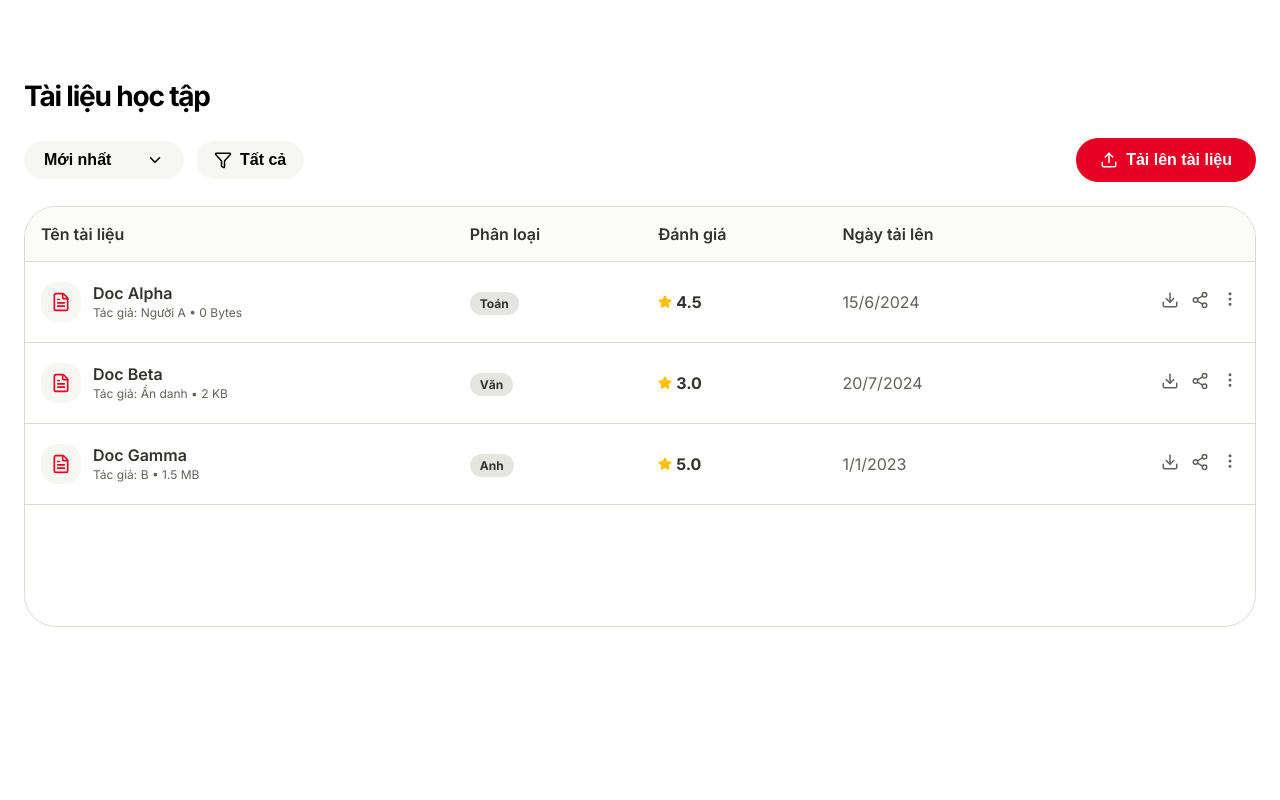
Scenario: StudyDocs › fetchCategories_prepends_all_before_api_categories
Click the button "Tất cả".
click(250, 160)  # box [196,141,304,179]
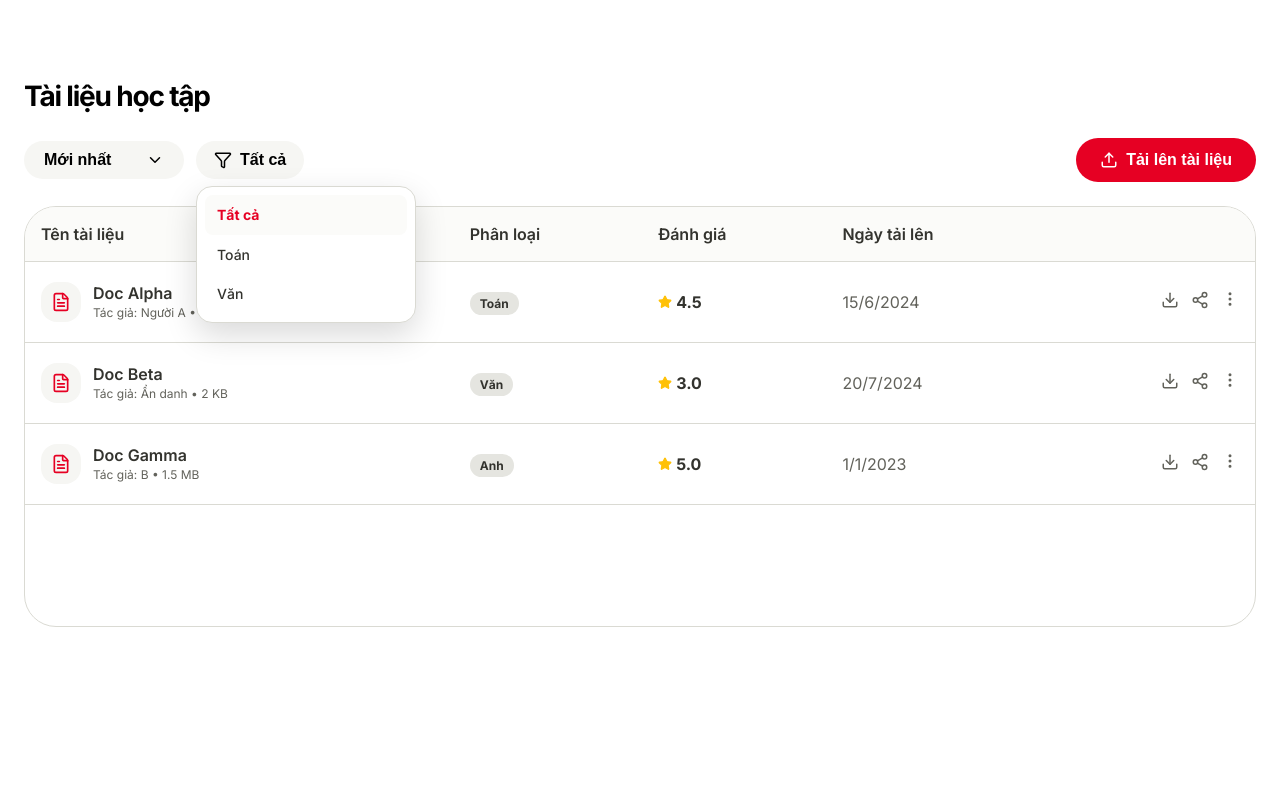
Expected: the text "Tất cả" is shown, [205,195,407,235]
Expected: the 1st text "Toán" is shown, [217,246,250,263]
Expected: the 1st text "Văn" is shown, [217,285,243,302]
